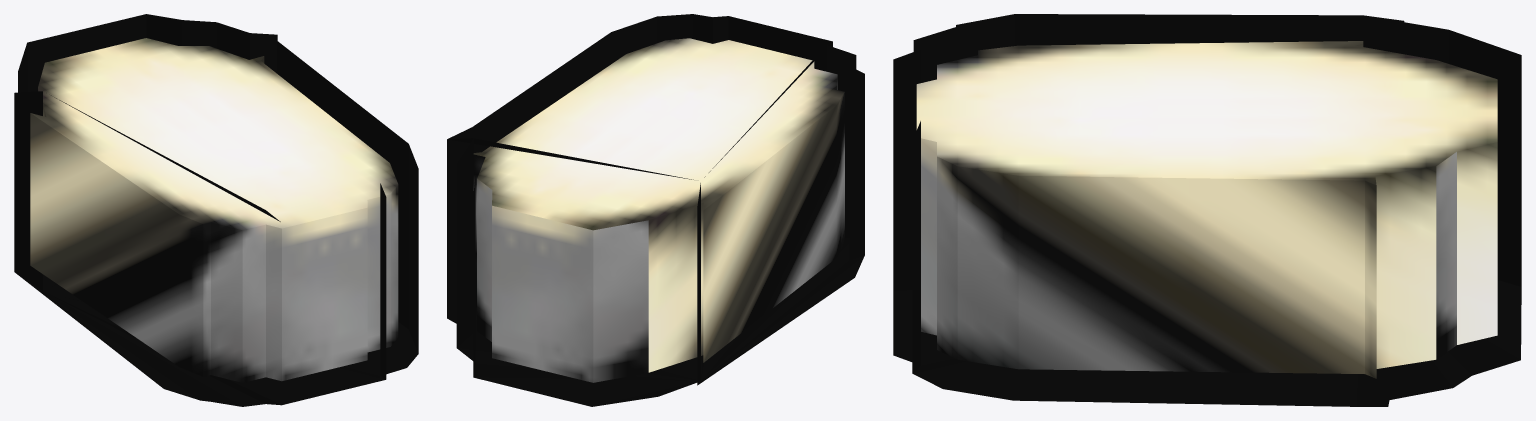
File: Building_SunLamp_Things_Building_Production_LampSun.glb
3 views of the same model, side by side, from view 1: azimuth 30°, elevation 25°; view 2: azimuth 150°, elevation 25°; view 3: azimuth 270°, elevation 25° (orthographic). The views are drawn at different scales.
Parts seen in each view (by area): view 1: Body, Outline; view 2: Body, Outline; view 3: Body, Outline.
Part boxes in pixels (x1,y1,x2,y2): Body: (30,38,398,382); Outline: (14,14,418,406); Body: (473,38,844,382); Outline: (447,14,864,406); Body: (916,41,1497,378); Outline: (893,14,1521,406).
Size of the model in its own units: 0.5229 by 0.3833 by 0.8602.
Materials: 2 (1 with a texture image).
